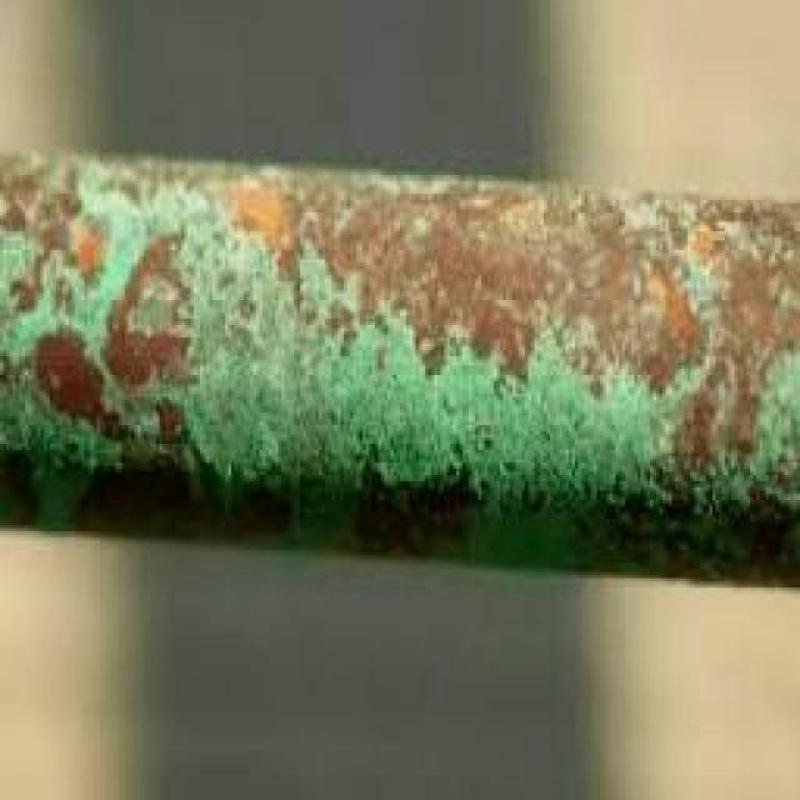corrosion: (0, 156, 799, 557)
